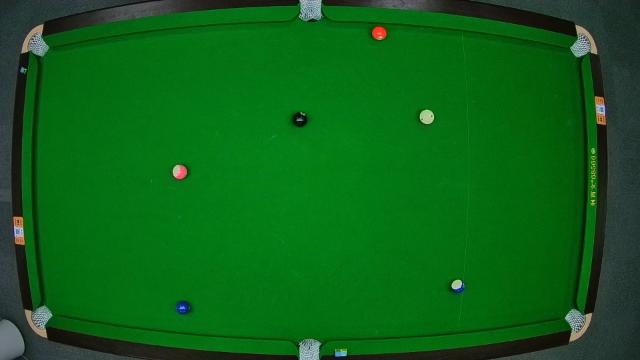bag1: (28, 36, 46, 54)
bag2: (300, 2, 322, 22)
bag3: (572, 37, 592, 55)
bag4: (30, 306, 50, 328)
bag5: (298, 340, 322, 360)
bag6: (566, 310, 586, 332)
ball0: (420, 109, 434, 125)
ball10: (452, 279, 464, 292)
ball12: (172, 165, 188, 180)
ball2: (177, 300, 191, 314)
ball5: (371, 26, 387, 40)
ball8: (292, 111, 308, 127)
